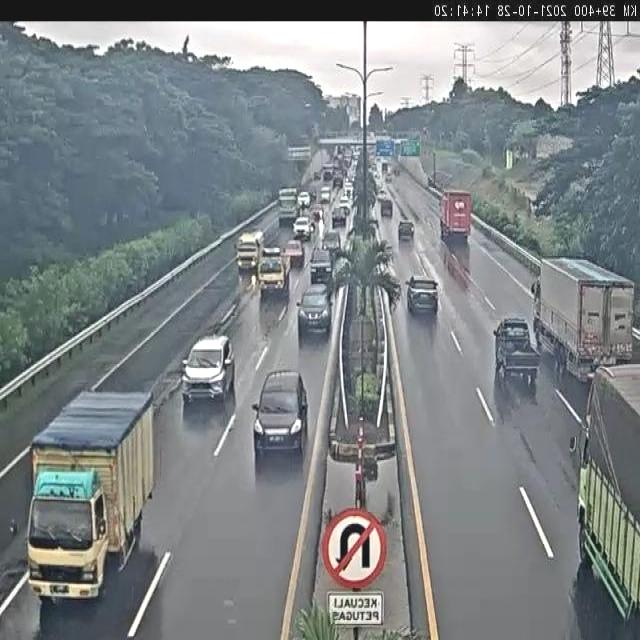Car: (252, 368, 310, 466), (180, 333, 236, 408), (296, 283, 332, 339), (406, 275, 438, 316), (309, 246, 334, 284), (321, 232, 342, 264), (282, 238, 305, 267), (292, 216, 313, 240), (331, 205, 348, 227), (297, 191, 311, 209)
Truck: (9, 390, 156, 610), (570, 364, 640, 618), (534, 260, 636, 384), (491, 320, 539, 380), (258, 244, 294, 300), (439, 188, 472, 242), (236, 230, 265, 272), (398, 220, 414, 242)
